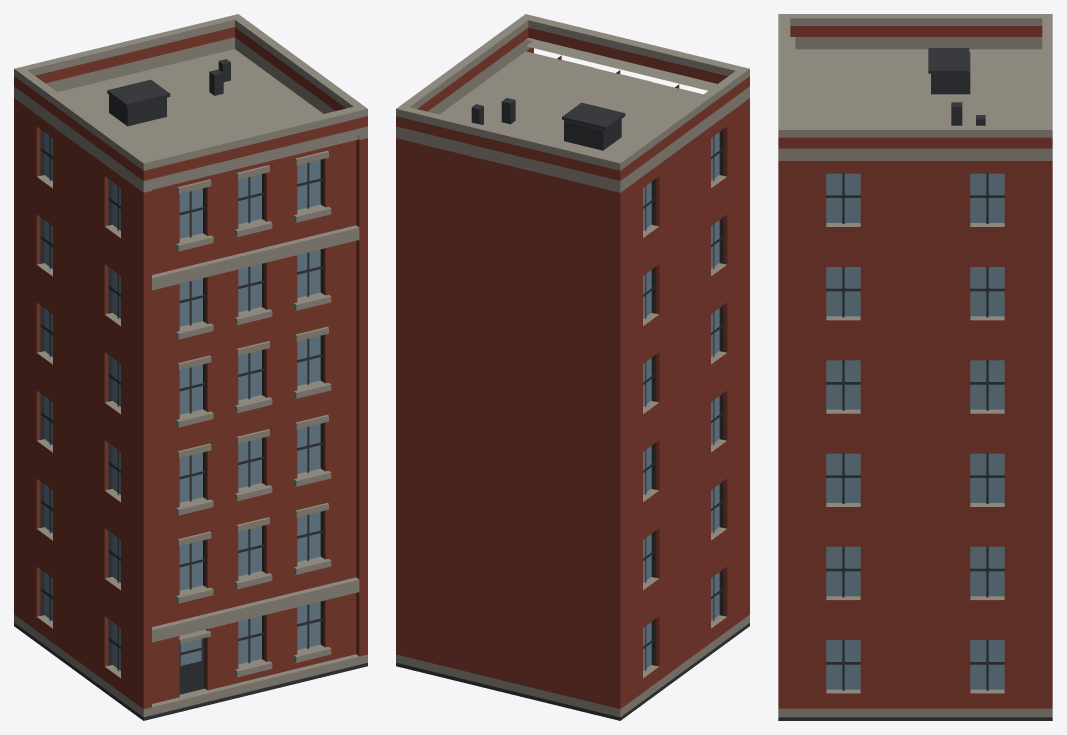
The model's file is brick-tenement-5257e9.glb.
3 views of the same model, side by side, from view 1: azimuth 30°, elevation 25°; view 2: azimuth 150°, elevation 25°; view 3: azimuth 270°, elevation 25° (orthographic). The views are drawn at different scales.
Visible parts, largest first — view 1: tenement-shell, front-door, hatch-lid; view 2: tenement-shell, hatch-lid; view 3: tenement-shell, hatch-lid.
Boxes of the visible parts, left/top/right/bottom form: tenement-shell: left=14, top=14, right=367, bottom=720; front-door: left=179, top=638, right=204, bottom=694; hatch-lid: left=107, top=79, right=170, bottom=107; tenement-shell: left=396, top=14, right=749, bottom=720; hatch-lid: left=562, top=102, right=625, bottom=130; tenement-shell: left=778, top=14, right=1052, bottom=720; hatch-lid: left=928, top=48, right=969, bottom=73.
Size of the model in its own units: 8 by 19 by 8.
